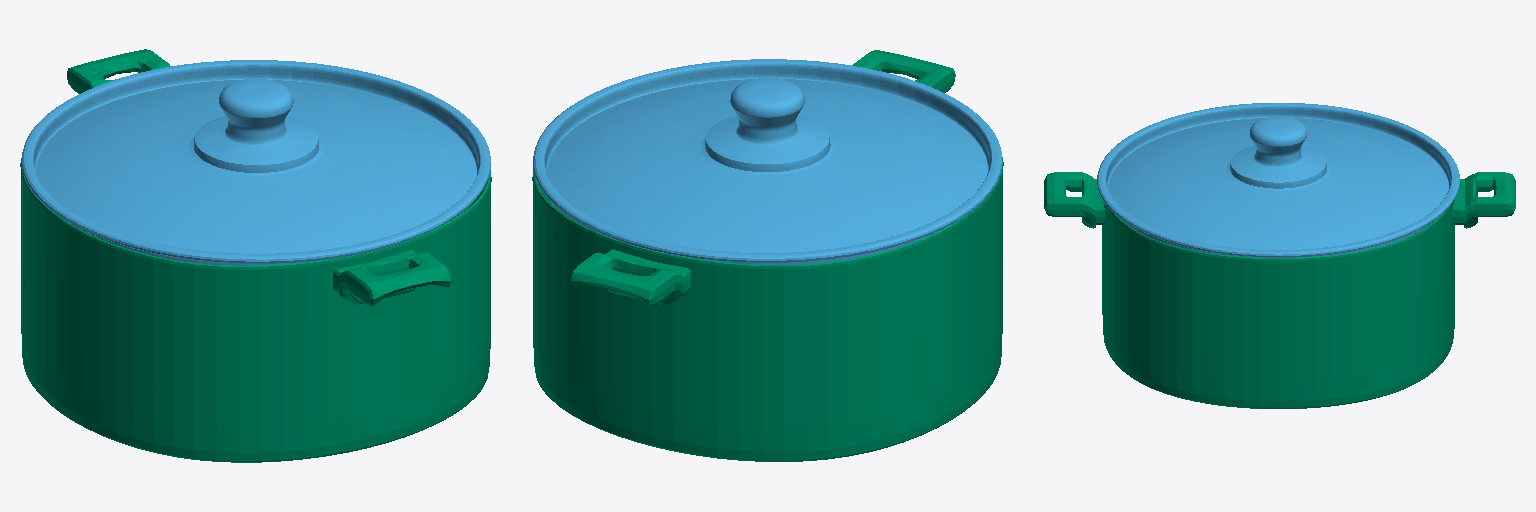
URDF robot description (partnet_d362a777-a416-46e0-ba51-13466ea1da9b):
<?xml version="1.0" ?>
<robot name="partnet_d362a777-a416-46e0-ba51-13466ea1da9b">
	<link name="base"/>
	<link name="link_0">
		<visual name="lid-1">
			<origin xyz="0 0 0"/>
			<geometry>
				<mesh filename="textured_objs/original-36.obj"/>
			</geometry>
		</visual>
		<visual name="lid-1">
			<origin xyz="0 0 0"/>
			<geometry>
				<mesh filename="textured_objs/original-35.obj"/>
			</geometry>
		</visual>
		<visual name="lid-1">
			<origin xyz="0 0 0"/>
			<geometry>
				<mesh filename="textured_objs/original-37.obj"/>
			</geometry>
		</visual>
		<collision>
			<origin xyz="0 0 0"/>
			<geometry>
				<mesh filename="textured_objs/original-36.obj"/>
			</geometry>
		</collision>
		<collision>
			<origin xyz="0 0 0"/>
			<geometry>
				<mesh filename="textured_objs/original-35.obj"/>
			</geometry>
		</collision>
		<collision>
			<origin xyz="0 0 0"/>
			<geometry>
				<mesh filename="textured_objs/original-37.obj"/>
			</geometry>
		</collision>
	</link>
	<joint name="joint_0" type="prismatic">
		<origin xyz="0 0 0"/>
		<axis xyz="0 1 0"/>
		<child link="link_0"/>
		<parent link="link_1"/>
		<limit lower="0" upper="0.07"/>
	</joint>
	<link name="link_1">
		<visual name="base_body-2">
			<origin xyz="0 0 0"/>
			<geometry>
				<mesh filename="textured_objs/original-29.obj"/>
			</geometry>
		</visual>
		<visual name="base_body-2">
			<origin xyz="0 0 0"/>
			<geometry>
				<mesh filename="textured_objs/original-21.obj"/>
			</geometry>
		</visual>
		<visual name="base_body-2">
			<origin xyz="0 0 0"/>
			<geometry>
				<mesh filename="textured_objs/original-30.obj"/>
			</geometry>
		</visual>
		<visual name="base_body-2">
			<origin xyz="0 0 0"/>
			<geometry>
				<mesh filename="textured_objs/original-28.obj"/>
			</geometry>
		</visual>
		<visual name="base_body-2">
			<origin xyz="0 0 0"/>
			<geometry>
				<mesh filename="textured_objs/original-22.obj"/>
			</geometry>
		</visual>
		<visual name="base_body-2">
			<origin xyz="0 0 0"/>
			<geometry>
				<mesh filename="textured_objs/original-26.obj"/>
			</geometry>
		</visual>
		<visual name="base_body-2">
			<origin xyz="0 0 0"/>
			<geometry>
				<mesh filename="textured_objs/original-4.obj"/>
			</geometry>
		</visual>
		<visual name="base_body-2">
			<origin xyz="0 0 0"/>
			<geometry>
				<mesh filename="textured_objs/original-33.obj"/>
			</geometry>
		</visual>
		<visual name="base_body-2">
			<origin xyz="0 0 0"/>
			<geometry>
				<mesh filename="textured_objs/original-2.obj"/>
			</geometry>
		</visual>
		<visual name="base_body-2">
			<origin xyz="0 0 0"/>
			<geometry>
				<mesh filename="textured_objs/original-16.obj"/>
			</geometry>
		</visual>
		<visual name="base_body-2">
			<origin xyz="0 0 0"/>
			<geometry>
				<mesh filename="textured_objs/original-8.obj"/>
			</geometry>
		</visual>
		<visual name="base_body-2">
			<origin xyz="0 0 0"/>
			<geometry>
				<mesh filename="textured_objs/original-13.obj"/>
			</geometry>
		</visual>
		<visual name="base_body-2">
			<origin xyz="0 0 0"/>
			<geometry>
				<mesh filename="textured_objs/original-9.obj"/>
			</geometry>
		</visual>
		<visual name="base_body-2">
			<origin xyz="0 0 0"/>
			<geometry>
				<mesh filename="textured_objs/original-5.obj"/>
			</geometry>
		</visual>
		<visual name="base_body-2">
			<origin xyz="0 0 0"/>
			<geometry>
				<mesh filename="textured_objs/original-27.obj"/>
			</geometry>
		</visual>
		<visual name="base_body-2">
			<origin xyz="0 0 0"/>
			<geometry>
				<mesh filename="textured_objs/original-6.obj"/>
			</geometry>
		</visual>
		<visual name="base_body-2">
			<origin xyz="0 0 0"/>
			<geometry>
				<mesh filename="textured_objs/original-31.obj"/>
			</geometry>
		</visual>
		<visual name="base_body-2">
			<origin xyz="0 0 0"/>
			<geometry>
				<mesh filename="textured_objs/original-15.obj"/>
			</geometry>
		</visual>
		<visual name="base_body-2">
			<origin xyz="0 0 0"/>
			<geometry>
				<mesh filename="textured_objs/original-23.obj"/>
			</geometry>
		</visual>
		<visual name="base_body-2">
			<origin xyz="0 0 0"/>
			<geometry>
				<mesh filename="textured_objs/original-11.obj"/>
			</geometry>
		</visual>
		<visual name="base_body-2">
			<origin xyz="0 0 0"/>
			<geometry>
				<mesh filename="textured_objs/original-18.obj"/>
			</geometry>
		</visual>
		<visual name="base_body-2">
			<origin xyz="0 0 0"/>
			<geometry>
				<mesh filename="textured_objs/original-25.obj"/>
			</geometry>
		</visual>
		<visual name="base_body-2">
			<origin xyz="0 0 0"/>
			<geometry>
				<mesh filename="textured_objs/original-17.obj"/>
			</geometry>
		</visual>
		<visual name="base_body-2">
			<origin xyz="0 0 0"/>
			<geometry>
				<mesh filename="textured_objs/original-12.obj"/>
			</geometry>
		</visual>
		<visual name="base_body-2">
			<origin xyz="0 0 0"/>
			<geometry>
				<mesh filename="textured_objs/original-24.obj"/>
			</geometry>
		</visual>
		<visual name="base_body-2">
			<origin xyz="0 0 0"/>
			<geometry>
				<mesh filename="textured_objs/original-20.obj"/>
			</geometry>
		</visual>
		<visual name="base_body-2">
			<origin xyz="0 0 0"/>
			<geometry>
				<mesh filename="textured_objs/original-32.obj"/>
			</geometry>
		</visual>
		<visual name="base_body-2">
			<origin xyz="0 0 0"/>
			<geometry>
				<mesh filename="textured_objs/original-7.obj"/>
			</geometry>
		</visual>
		<visual name="base_body-2">
			<origin xyz="0 0 0"/>
			<geometry>
				<mesh filename="textured_objs/original-10.obj"/>
			</geometry>
		</visual>
		<visual name="base_body-2">
			<origin xyz="0 0 0"/>
			<geometry>
				<mesh filename="textured_objs/original-14.obj"/>
			</geometry>
		</visual>
		<visual name="base_body-2">
			<origin xyz="0 0 0"/>
			<geometry>
				<mesh filename="textured_objs/original-19.obj"/>
			</geometry>
		</visual>
		<collision>
			<origin xyz="0 0 0"/>
			<geometry>
				<mesh filename="textured_objs/original-29.obj"/>
			</geometry>
		</collision>
		<collision>
			<origin xyz="0 0 0"/>
			<geometry>
				<mesh filename="textured_objs/original-21.obj"/>
			</geometry>
		</collision>
		<collision>
			<origin xyz="0 0 0"/>
			<geometry>
				<mesh filename="textured_objs/original-30.obj"/>
			</geometry>
		</collision>
		<collision>
			<origin xyz="0 0 0"/>
			<geometry>
				<mesh filename="textured_objs/original-28.obj"/>
			</geometry>
		</collision>
		<collision>
			<origin xyz="0 0 0"/>
			<geometry>
				<mesh filename="textured_objs/original-22.obj"/>
			</geometry>
		</collision>
		<collision>
			<origin xyz="0 0 0"/>
			<geometry>
				<mesh filename="textured_objs/original-26.obj"/>
			</geometry>
		</collision>
		<collision>
			<origin xyz="0 0 0"/>
			<geometry>
				<mesh filename="textured_objs/original-4.obj"/>
			</geometry>
		</collision>
		<collision>
			<origin xyz="0 0 0"/>
			<geometry>
				<mesh filename="textured_objs/original-33.obj"/>
			</geometry>
		</collision>
		<collision>
			<origin xyz="0 0 0"/>
			<geometry>
				<mesh filename="textured_objs/original-2.obj"/>
			</geometry>
		</collision>
		<collision>
			<origin xyz="0 0 0"/>
			<geometry>
				<mesh filename="textured_objs/original-16.obj"/>
			</geometry>
		</collision>
		<collision>
			<origin xyz="0 0 0"/>
			<geometry>
				<mesh filename="textured_objs/original-8.obj"/>
			</geometry>
		</collision>
		<collision>
			<origin xyz="0 0 0"/>
			<geometry>
				<mesh filename="textured_objs/original-13.obj"/>
			</geometry>
		</collision>
		<collision>
			<origin xyz="0 0 0"/>
			<geometry>
				<mesh filename="textured_objs/original-9.obj"/>
			</geometry>
		</collision>
		<collision>
			<origin xyz="0 0 0"/>
			<geometry>
				<mesh filename="textured_objs/original-5.obj"/>
			</geometry>
		</collision>
		<collision>
			<origin xyz="0 0 0"/>
			<geometry>
				<mesh filename="textured_objs/original-27.obj"/>
			</geometry>
		</collision>
		<collision>
			<origin xyz="0 0 0"/>
			<geometry>
				<mesh filename="textured_objs/original-6.obj"/>
			</geometry>
		</collision>
		<collision>
			<origin xyz="0 0 0"/>
			<geometry>
				<mesh filename="textured_objs/original-31.obj"/>
			</geometry>
		</collision>
		<collision>
			<origin xyz="0 0 0"/>
			<geometry>
				<mesh filename="textured_objs/original-15.obj"/>
			</geometry>
		</collision>
		<collision>
			<origin xyz="0 0 0"/>
			<geometry>
				<mesh filename="textured_objs/original-23.obj"/>
			</geometry>
		</collision>
		<collision>
			<origin xyz="0 0 0"/>
			<geometry>
				<mesh filename="textured_objs/original-11.obj"/>
			</geometry>
		</collision>
		<collision>
			<origin xyz="0 0 0"/>
			<geometry>
				<mesh filename="textured_objs/original-18.obj"/>
			</geometry>
		</collision>
		<collision>
			<origin xyz="0 0 0"/>
			<geometry>
				<mesh filename="textured_objs/original-25.obj"/>
			</geometry>
		</collision>
		<collision>
			<origin xyz="0 0 0"/>
			<geometry>
				<mesh filename="textured_objs/original-17.obj"/>
			</geometry>
		</collision>
		<collision>
			<origin xyz="0 0 0"/>
			<geometry>
				<mesh filename="textured_objs/original-12.obj"/>
			</geometry>
		</collision>
		<collision>
			<origin xyz="0 0 0"/>
			<geometry>
				<mesh filename="textured_objs/original-24.obj"/>
			</geometry>
		</collision>
		<collision>
			<origin xyz="0 0 0"/>
			<geometry>
				<mesh filename="textured_objs/original-20.obj"/>
			</geometry>
		</collision>
		<collision>
			<origin xyz="0 0 0"/>
			<geometry>
				<mesh filename="textured_objs/original-32.obj"/>
			</geometry>
		</collision>
		<collision>
			<origin xyz="0 0 0"/>
			<geometry>
				<mesh filename="textured_objs/original-7.obj"/>
			</geometry>
		</collision>
		<collision>
			<origin xyz="0 0 0"/>
			<geometry>
				<mesh filename="textured_objs/original-10.obj"/>
			</geometry>
		</collision>
		<collision>
			<origin xyz="0 0 0"/>
			<geometry>
				<mesh filename="textured_objs/original-14.obj"/>
			</geometry>
		</collision>
		<collision>
			<origin xyz="0 0 0"/>
			<geometry>
				<mesh filename="textured_objs/original-19.obj"/>
			</geometry>
		</collision>
	</link>
	<joint name="joint_1" type="fixed">
		<origin rpy="1.570796326794897 0 -1.570796326794897" xyz="0 0 0"/>
		<child link="link_1"/>
		<parent link="base"/>
	</joint>
</robot>

--- Facts derived from the render (not from the file) ---
Views: 3 orthographic renders of the robot side by side, from view 1: azimuth 30°, elevation 25°; view 2: azimuth 150°, elevation 25°; view 3: azimuth 270°, elevation 25°.
Robot: partnet_d362a777-a416-46e0-ba51-13466ea1da9b — 3 links, 2 joints (1 prismatic, 1 fixed); root link base; default pose: all joints at 0.
Links seen in each view (by area): view 1: link_1, link_0; view 2: link_1, link_0; view 3: link_1, link_0.
Boxes of the visible links, box(x1,y1,x2,y2) form: link_1: box(20, 49, 491, 462); link_0: box(22, 60, 490, 265); link_1: box(532, 50, 1003, 461); link_0: box(533, 59, 1002, 264); link_1: box(1044, 172, 1515, 408); link_0: box(1097, 103, 1459, 257).
Bounding box of the posed robot: 1.46 × 1.92 × 0.9847 m (x, y, z).
34 mesh visuals loaded from 34 distinct referenced files (34 OBJ).